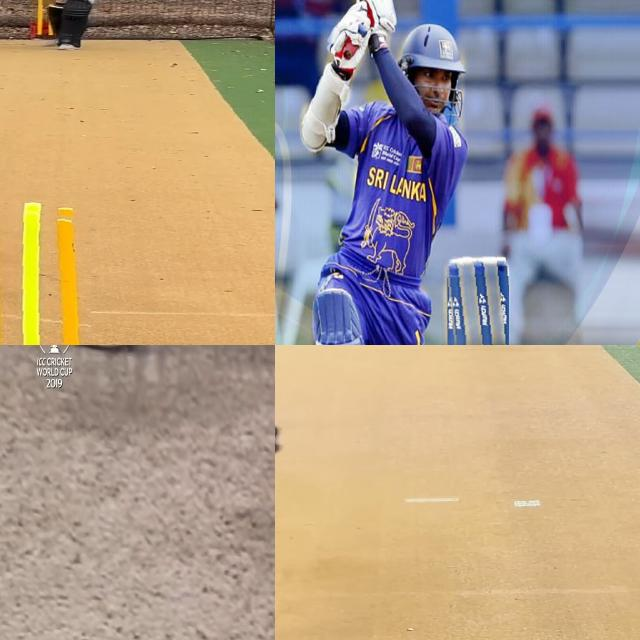Stumps: (0, 202, 91, 345), (444, 253, 509, 345)
